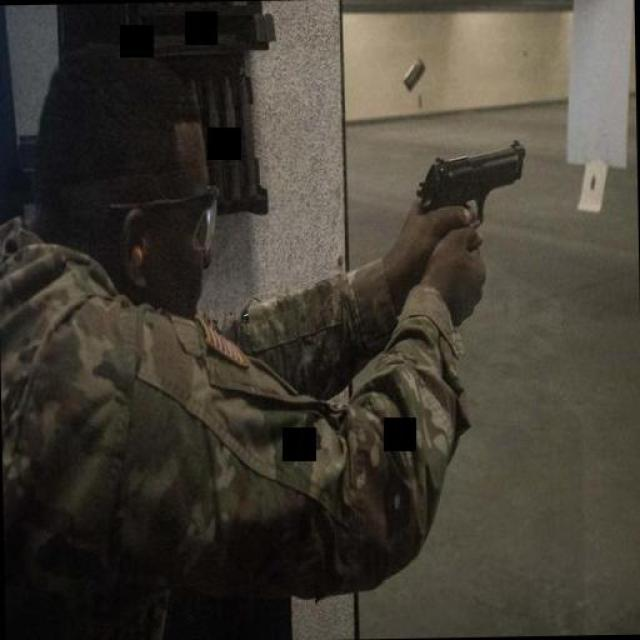gun: (410, 138, 528, 248)
